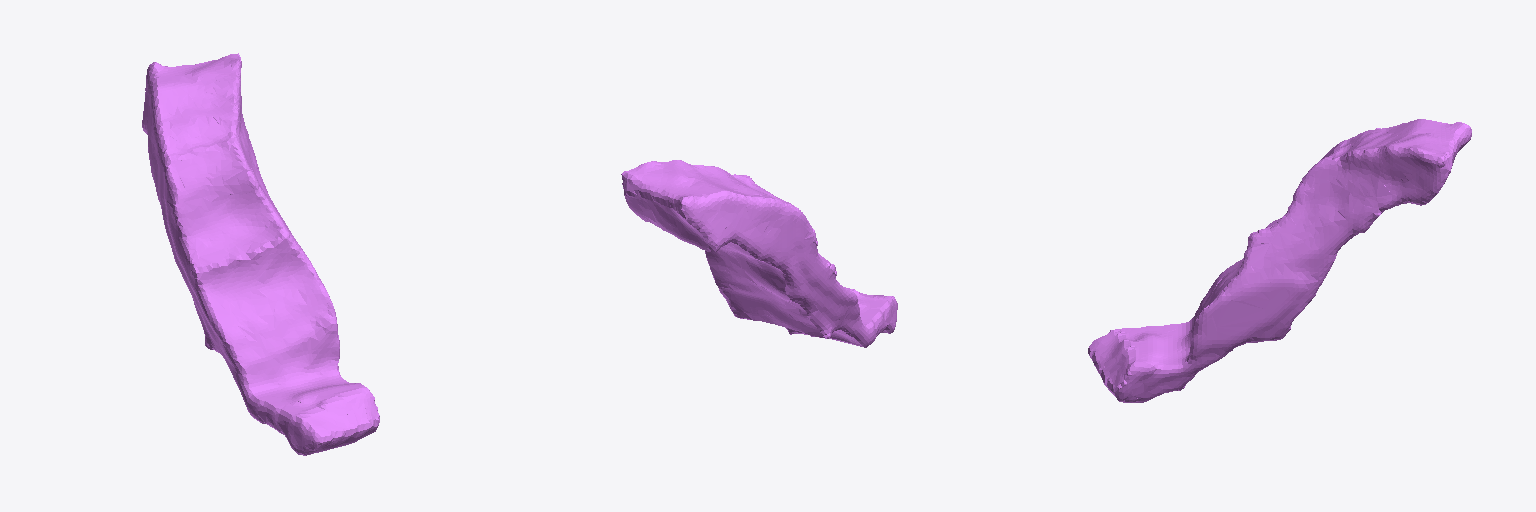
File: Model_10138_LH__Temporo-parieto-occipital_association_area_(superior_temporal_polysensory_cortex)_(TPO).obj
3 views of the same model, side by side, from view 1: azimuth 30°, elevation 25°; view 2: azimuth 150°, elevation 25°; view 3: azimuth 270°, elevation 25° (orthographic).
Size of the model in its own units: 3.09 by 5.99 by 7.91.